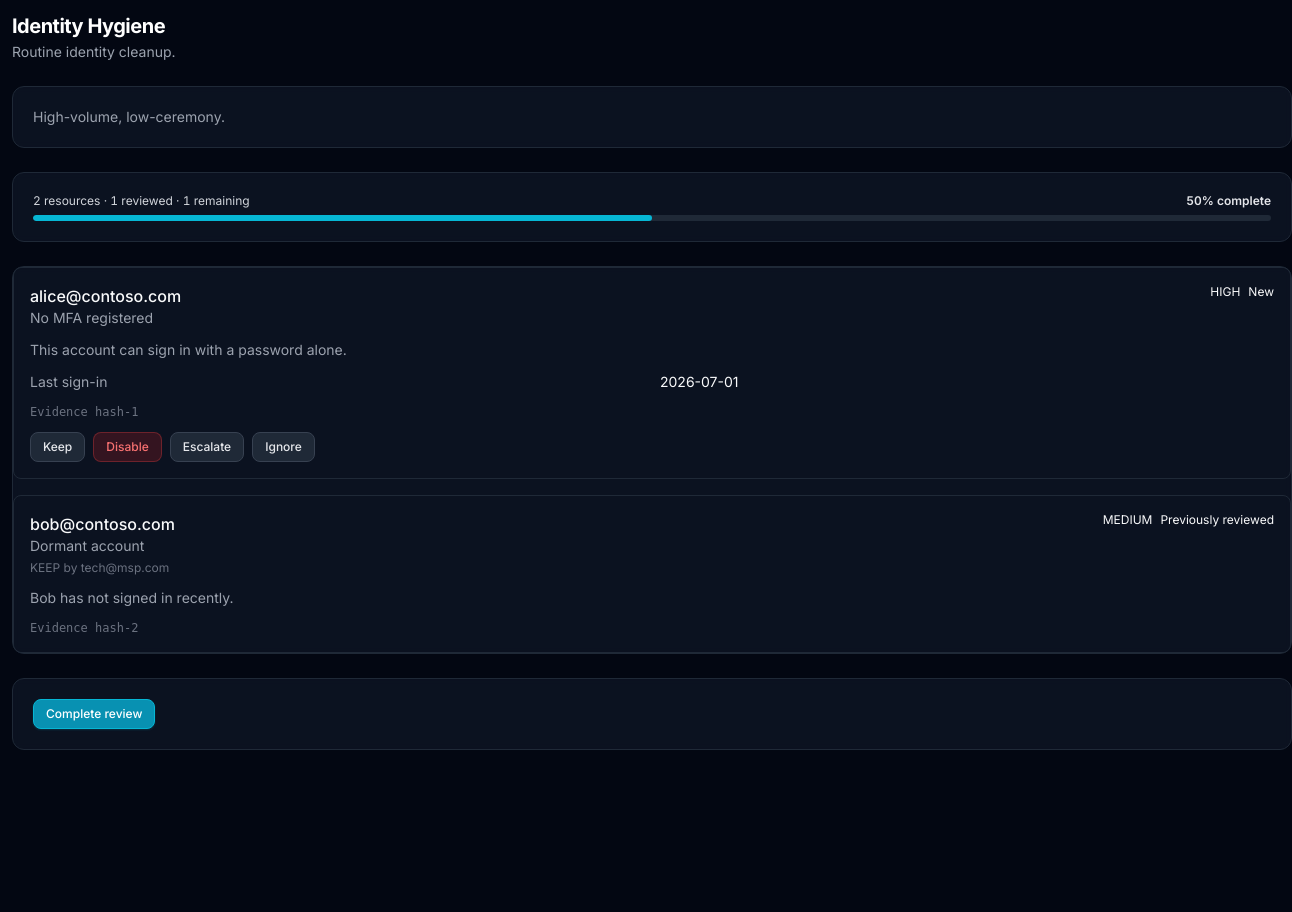
Test: a failed completion stays on the page and shows the error
Click the button "Complete review". click: (94, 714)
box: x1=33 y1=699 x2=155 y2=729
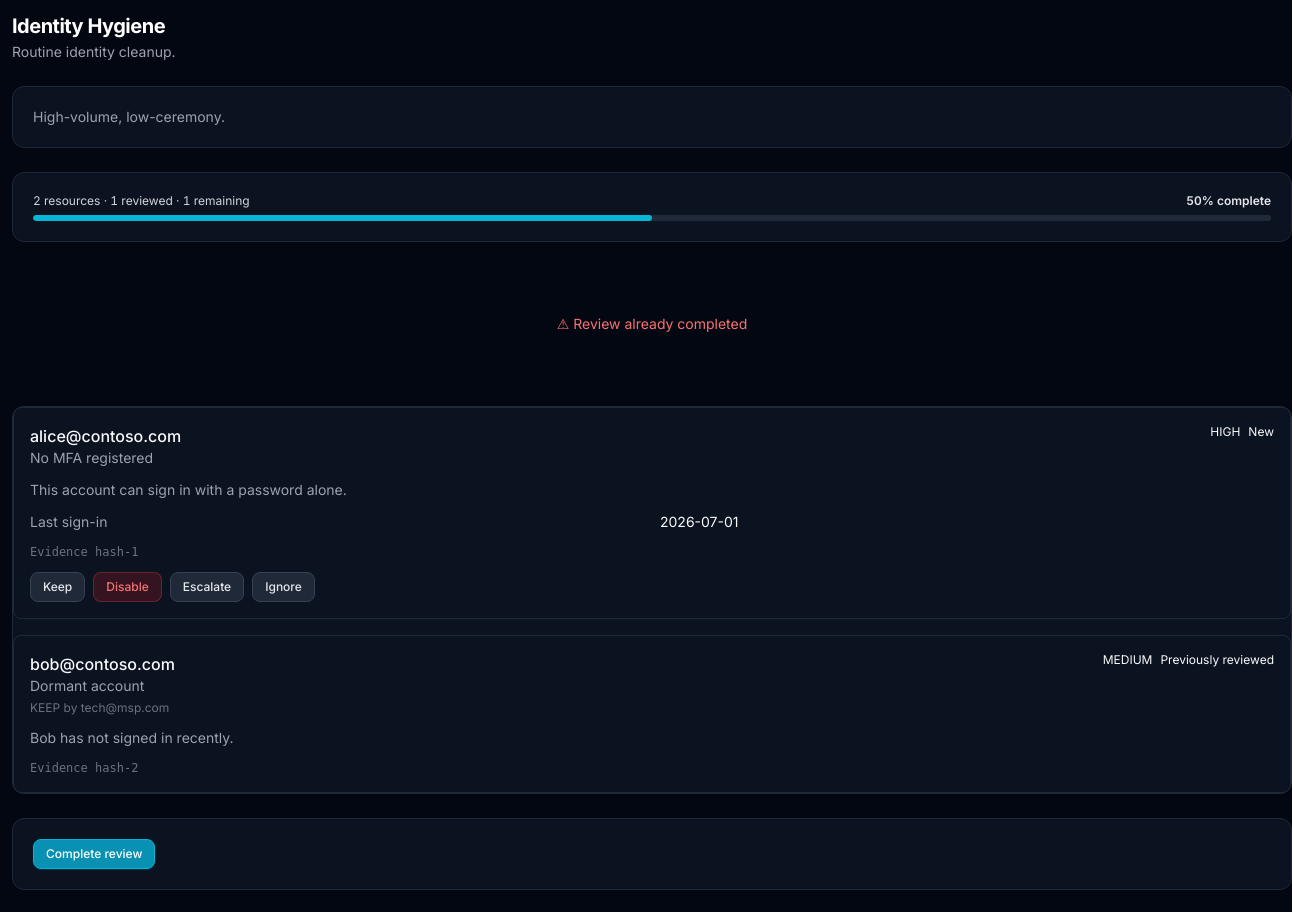
Check: the text "⚠ Review already completed" is shown, box x1=557 y1=314 x2=747 y2=334
